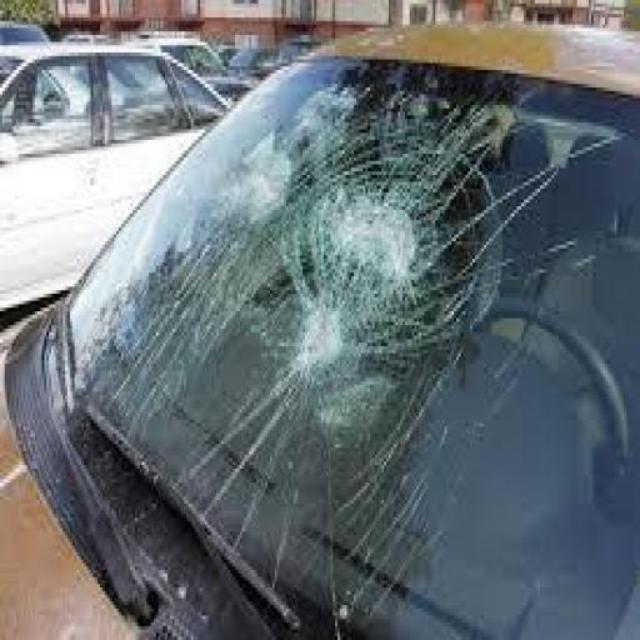glass shatter: (181, 101, 497, 424)
